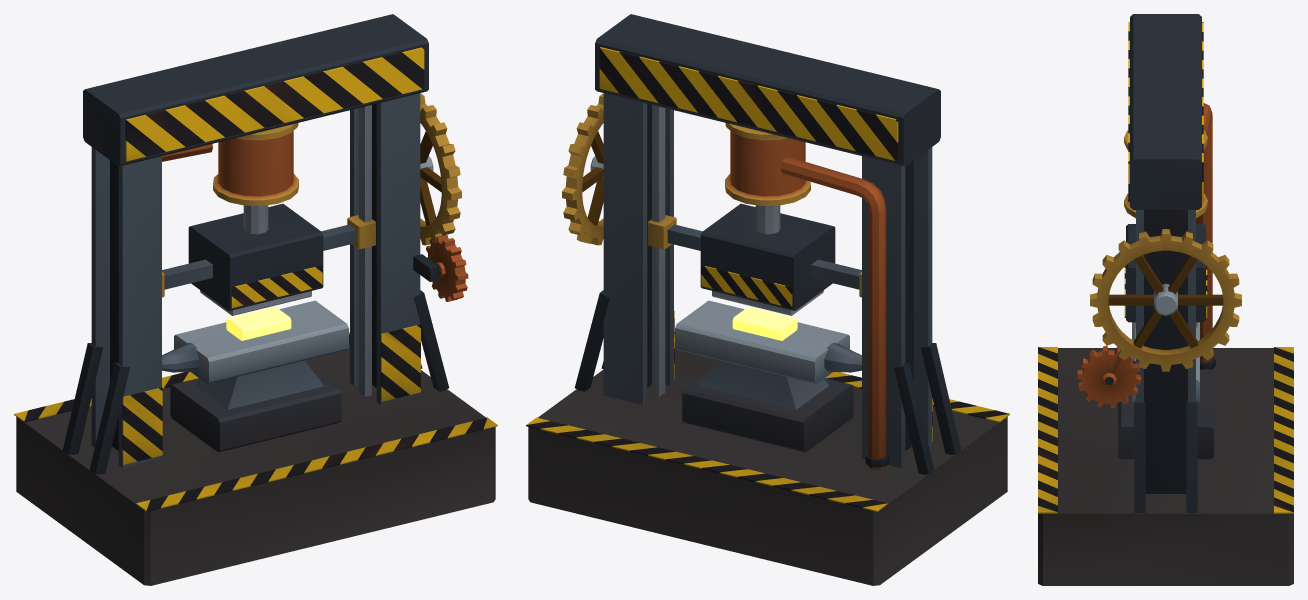
File: giant_hammer.glb
3 views of the same model, side by side, from view 1: azimuth 30°, elevation 25°; view 2: azimuth 150°, elevation 25°; view 3: azimuth 270°, elevation 25° (orthographic). The views are drawn at different scales.
Parts seen in each view (by area): view 1: giant_hammer; view 2: giant_hammer; view 3: giant_hammer.
Part boxes in pixels (x1,y1,x2,y2): giant_hammer: (14,14,497,585); giant_hammer: (526,14,1009,585); giant_hammer: (1038,14,1293,585).
Bounding box in the file's own units: 9.87 × 11.5 × 6.4.
